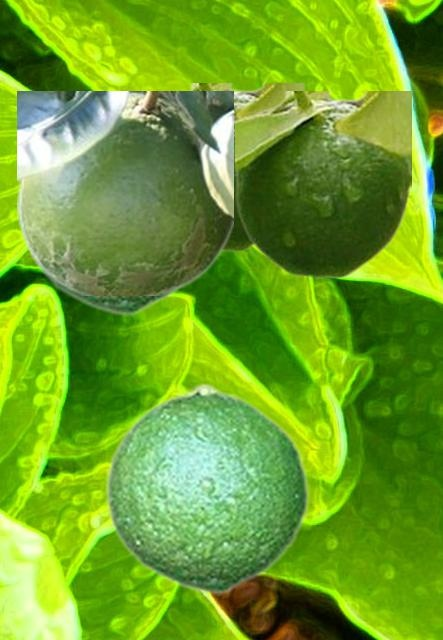dalandan: (103, 382, 309, 594), (17, 91, 232, 294), (235, 91, 410, 277), (186, 83, 303, 250), (21, 237, 178, 315)
